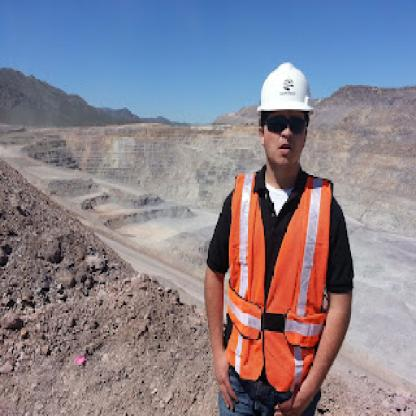person: (200, 49, 358, 414)
